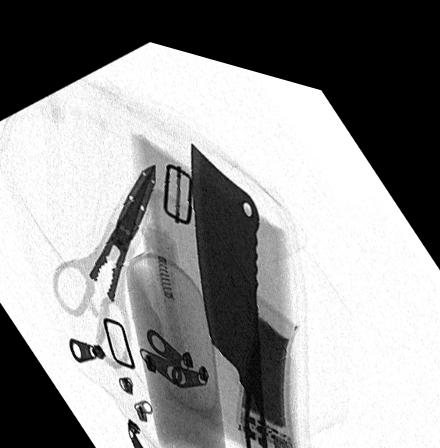Knife: (192, 131, 272, 448)
Powerbank: (220, 270, 302, 448)
Scissors: (52, 148, 156, 362)
